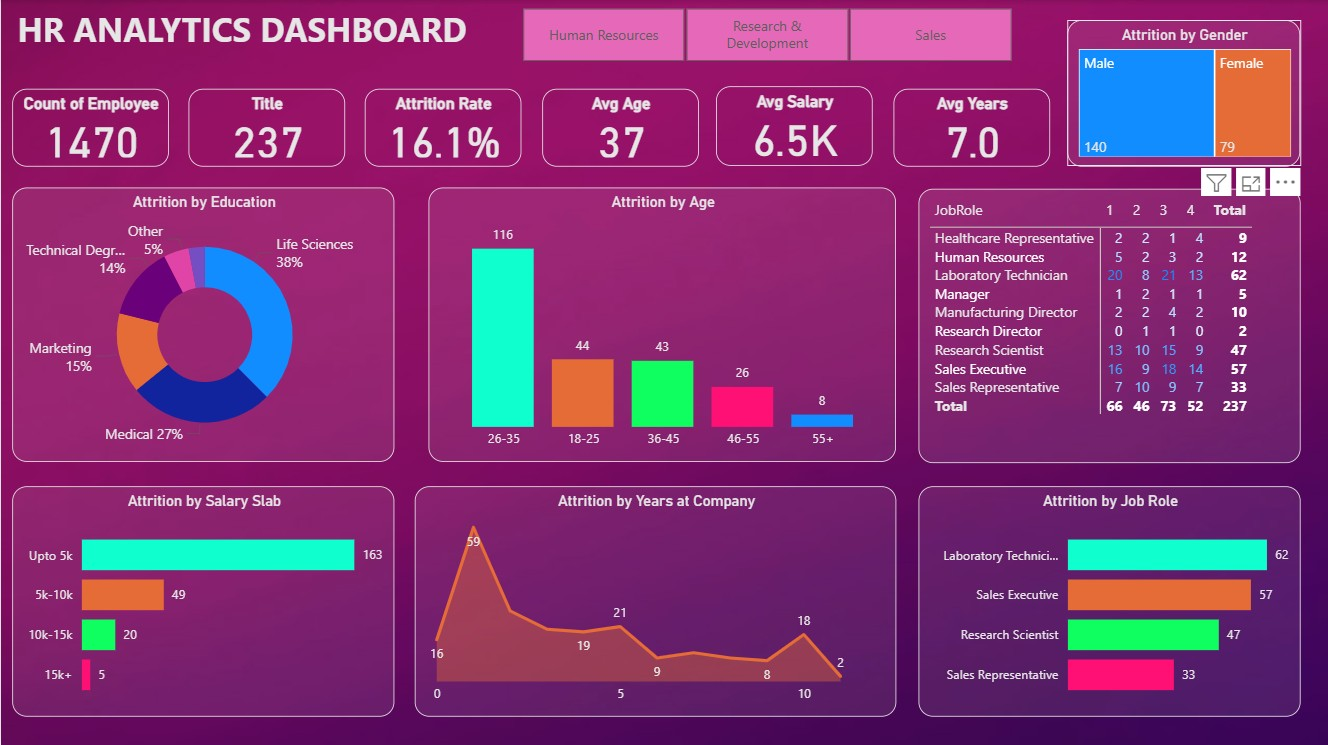

This screenshot's page, from the dashboard's own definition file:
{"tool":"powerbi","page":{"name":"Page 1","canvas":[1280,720],"ordinal":0},"visuals":[{"type":"card","title":"Count of Employee","fields":{"Values":["CountNonNull(HR_Analytics.EmpID)"]},"box":[11,85.1,150.9,75.5],"z":0},{"type":"card","title":"Title","fields":{"Values":["Sum(HR_Analytics.Attrition Count)"]},"box":[181.1,85.1,150.9,75.5],"z":1},{"type":"card","title":"Attrition Rate","fields":{"Values":["HR_Analytics.AttritionRate"]},"box":[351.3,85.1,150.9,75.5],"z":2},{"type":"card","title":"Avg Age","fields":{"Values":["Avg(HR_Analytics.Age)"]},"box":[522.8,85.1,150.9,75.5],"z":3},{"type":"card","title":"Avg Years","fields":{"Values":["Avg(HR_Analytics.YearsAtCompany)"]},"box":[861.8,85.1,150.9,75.5],"z":4},{"type":"card","title":"Avg Salary","fields":{"Values":["Avg(HR_Analytics.MonthlyIncome)"]},"box":[690.2,83.7,150.9,76.8],"z":5},{"type":"donutChart","title":"Attrition by Education","fields":{"Category":["HR_Analytics.EducationField"],"Y":["Sum(HR_Analytics.Attrition Count)"]},"box":[11,181.1,369.1,264.8],"z":6},{"type":"columnChart","title":"Attrition by Age","fields":{"Category":["HR_Analytics.AgeGroup"],"Y":["Sum(HR_Analytics.Attrition Count)"]},"box":[413,181.1,451.5,264.8],"z":7},{"type":"pivotTable","fields":{"Rows":["HR_Analytics.JobRole"],"Columns":["HR_Analytics.JobSatisfaction"],"Values":["Sum(HR_Analytics.Attrition Count)"]},"box":[885.1,182.5,369.1,264.8],"z":8},{"type":"barChart","title":"Attrition by Salary Slab","fields":{"Category":["HR_Analytics.SalarySlab"],"Y":["Sum(HR_Analytics.Attrition Count)"]},"box":[11,469.3,369.1,222.3],"z":9},{"type":"barChart","title":"Attrition by Job Role","fields":{"Category":["HR_Analytics.JobRole"],"Y":["Sum(HR_Analytics.Attrition Count)"]},"box":[885.1,469.3,369.1,222.3],"z":10},{"type":"areaChart","title":"Attrition by Years at Company","fields":{"Category":["HR_Analytics.YearsAtCompany"],"Y":["Sum(HR_Analytics.Attrition Count)"]},"box":[399.3,469.3,465.2,222.3],"z":11},{"type":"treemap","title":"Attrition by Gender","fields":{"Group":["HR_Analytics.Gender"],"Values":["Sum(HR_Analytics.Attrition Count)"]},"box":[1029.2,19.2,225,141.3],"z":12},{"type":"slicer","fields":{"Values":["HR_Analytics.Department"]},"box":[477.5,1.4,521.4,64.5],"z":13},{"type":"textbox","box":[11,1.4,480.3,64.5],"z":14}]}

Visuals, with their boxes in screenshot pixels (x1, y1, x2, y2), scaled from the page's 1280x720 canvas onto the 1328x745 screenshot:
"Count of Employee" card: {"x1": 11, "y1": 88, "x2": 168, "y2": 166}
"Title" card: {"x1": 188, "y1": 88, "x2": 344, "y2": 166}
"Attrition Rate" card: {"x1": 364, "y1": 88, "x2": 521, "y2": 166}
"Avg Age" card: {"x1": 542, "y1": 88, "x2": 699, "y2": 166}
"Avg Years" card: {"x1": 894, "y1": 88, "x2": 1051, "y2": 166}
"Avg Salary" card: {"x1": 716, "y1": 87, "x2": 873, "y2": 166}
"Attrition by Education" donutChart: {"x1": 11, "y1": 187, "x2": 394, "y2": 461}
"Attrition by Age" columnChart: {"x1": 428, "y1": 187, "x2": 897, "y2": 461}
pivotTable - HR_Analytics.JobRole x HR_Analytics.JobSatisfaction: {"x1": 918, "y1": 189, "x2": 1301, "y2": 463}
"Attrition by Salary Slab" barChart: {"x1": 11, "y1": 486, "x2": 394, "y2": 716}
"Attrition by Job Role" barChart: {"x1": 918, "y1": 486, "x2": 1301, "y2": 716}
"Attrition by Years at Company" areaChart: {"x1": 414, "y1": 486, "x2": 897, "y2": 716}
"Attrition by Gender" treemap: {"x1": 1068, "y1": 20, "x2": 1301, "y2": 166}
slicer - HR_Analytics.Department: {"x1": 495, "y1": 1, "x2": 1036, "y2": 68}
textbox: {"x1": 11, "y1": 1, "x2": 510, "y2": 68}
